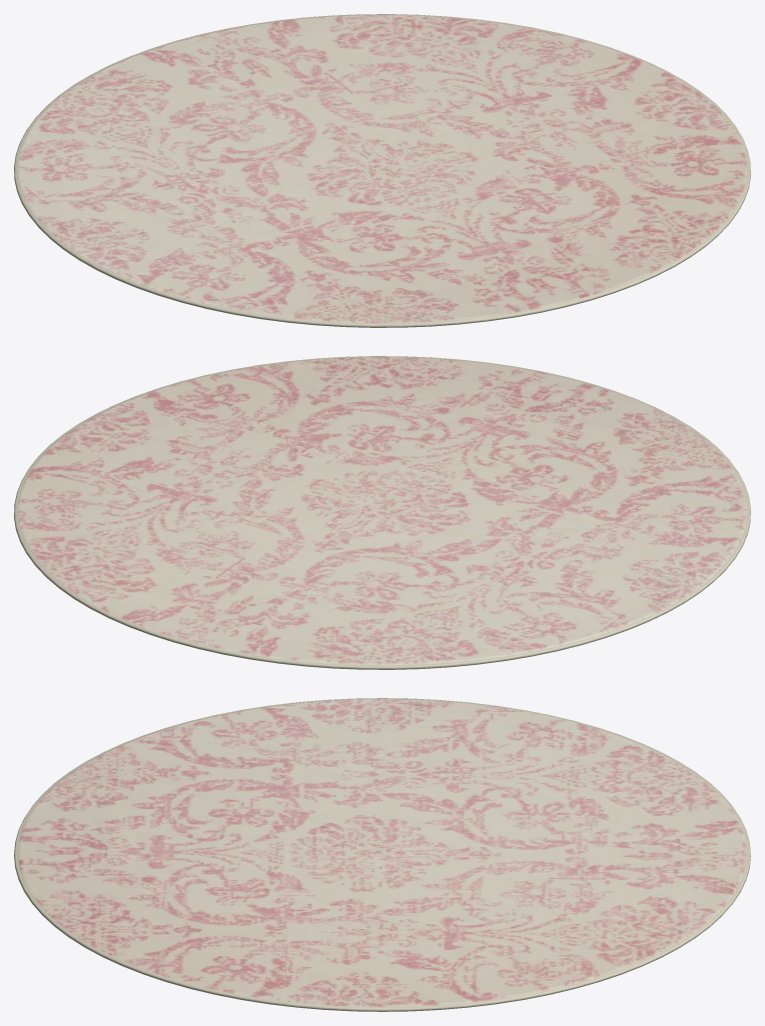
File: B07QHKWJV2.glb
3 renders of one model, top to bottom at view 1: azimuth 30°, elevation 25°; view 2: azimuth 150°, elevation 25°; view 3: azimuth 270°, elevation 25°, orthographic.
Parts seen in each view (by area): view 1: RootNode; view 2: RootNode; view 3: RootNode.
Boxes of the visible parts, bbox=[...] form: RootNode: bbox=[14, 14, 750, 327]; RootNode: bbox=[14, 356, 750, 669]; RootNode: bbox=[14, 698, 750, 1011].
Bounding box in the file's own units: 1.59 × 0.0119 × 1.59.
Materials: 1 (1 with a texture image).
